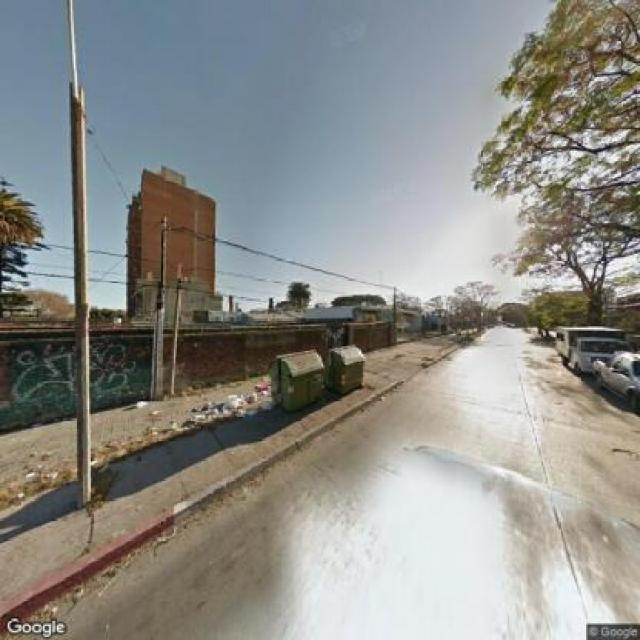garbage: (0, 461, 72, 510), (326, 348, 372, 394), (176, 397, 270, 417), (139, 412, 200, 440), (94, 433, 138, 460), (248, 371, 272, 415)
